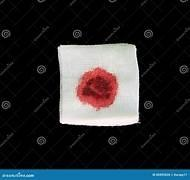cotton: (58, 44, 138, 125), (77, 67, 117, 109)
